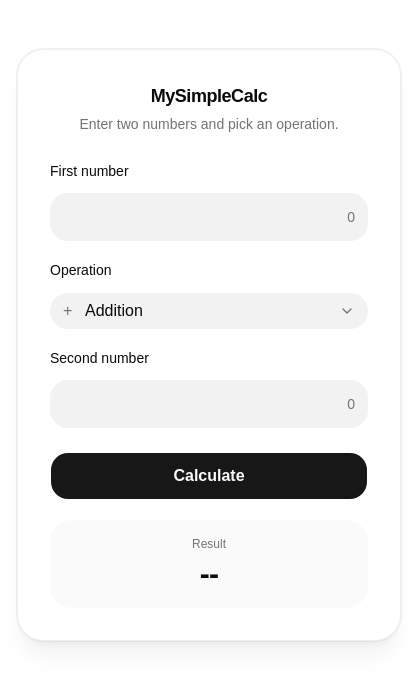
Scenario: CalculatorPage › invalid input › reports both operands and never reaches the backend when they are empty
Click the button "Calculate" at (209, 476), box 50,452 -> 368,500
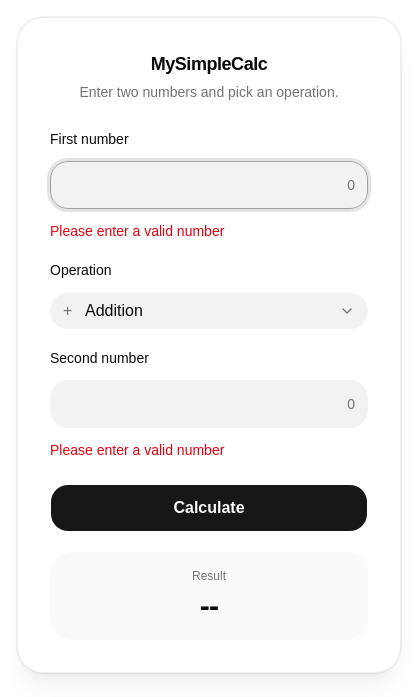
Check: the text "Please enter a valid number" is shown 2 times, box 50,223 -> 224,239; 50,442 -> 224,458
